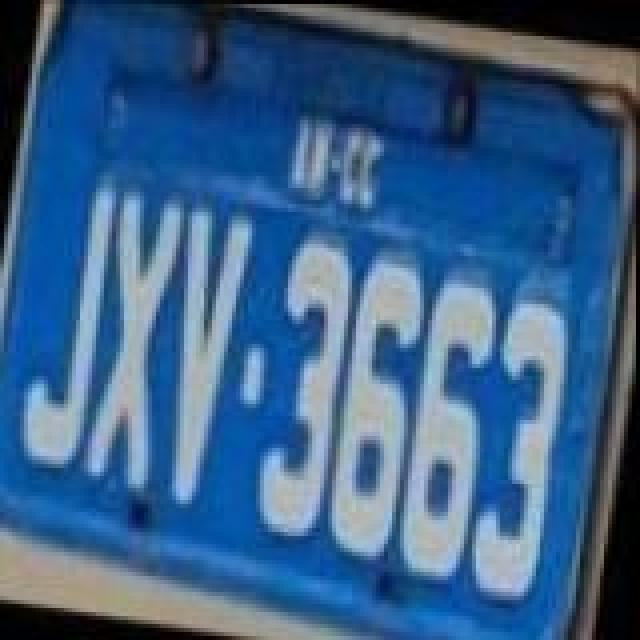3: (248, 230, 364, 546), (462, 292, 578, 608)
6: (318, 248, 438, 564), (390, 270, 510, 586)
J: (12, 174, 124, 474)
V: (148, 200, 260, 504)
X: (80, 188, 192, 496)
